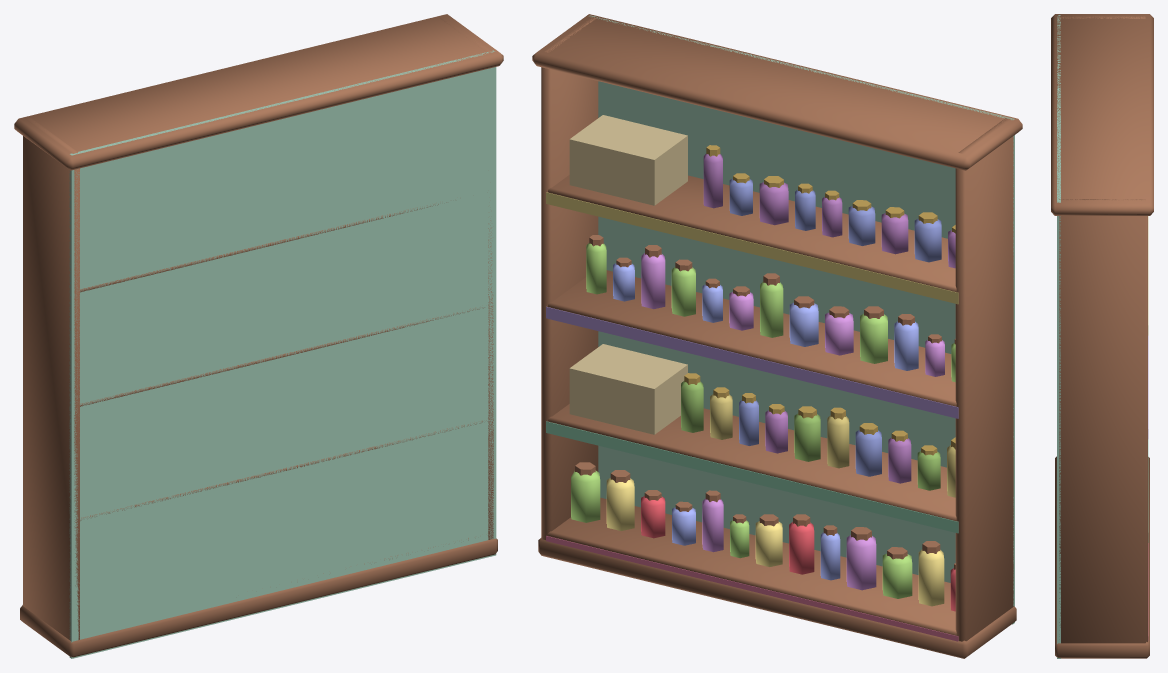
Rendered from pantry_shelf.glb.
3 renders of one model, left to right at view 1: azimuth 30°, elevation 25°; view 2: azimuth 150°, elevation 25°; view 3: azimuth 270°, elevation 25°, orthographic. The views are drawn at different scales.
Visible parts, largest first — view 1: pantry_shelf; view 2: pantry_shelf; view 3: pantry_shelf.
Part boxes in pixels (x1=…): pantry_shelf: x1=14, y1=14, x2=503, y2=658; pantry_shelf: x1=532, y1=14, x2=1022, y2=658; pantry_shelf: x1=1051, y1=14, x2=1153, y2=658.
Size of what is drawn, in the model's own units: 2 by 2.2 by 0.45.
